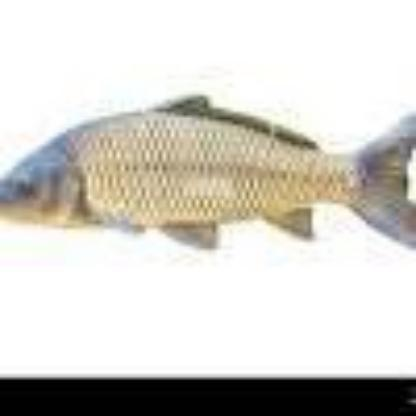ikan-mas: (0, 91, 416, 249)
